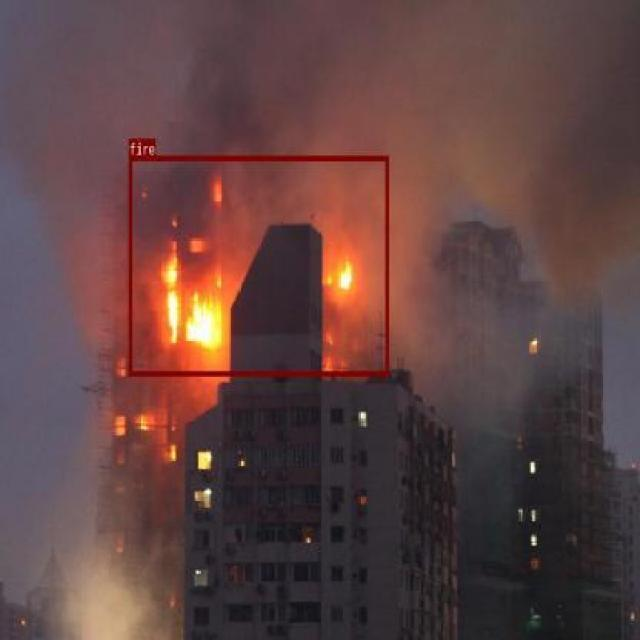Fire: (128, 156, 388, 376)
Smoke: (13, 0, 640, 175), (410, 164, 635, 443), (45, 510, 206, 640)
